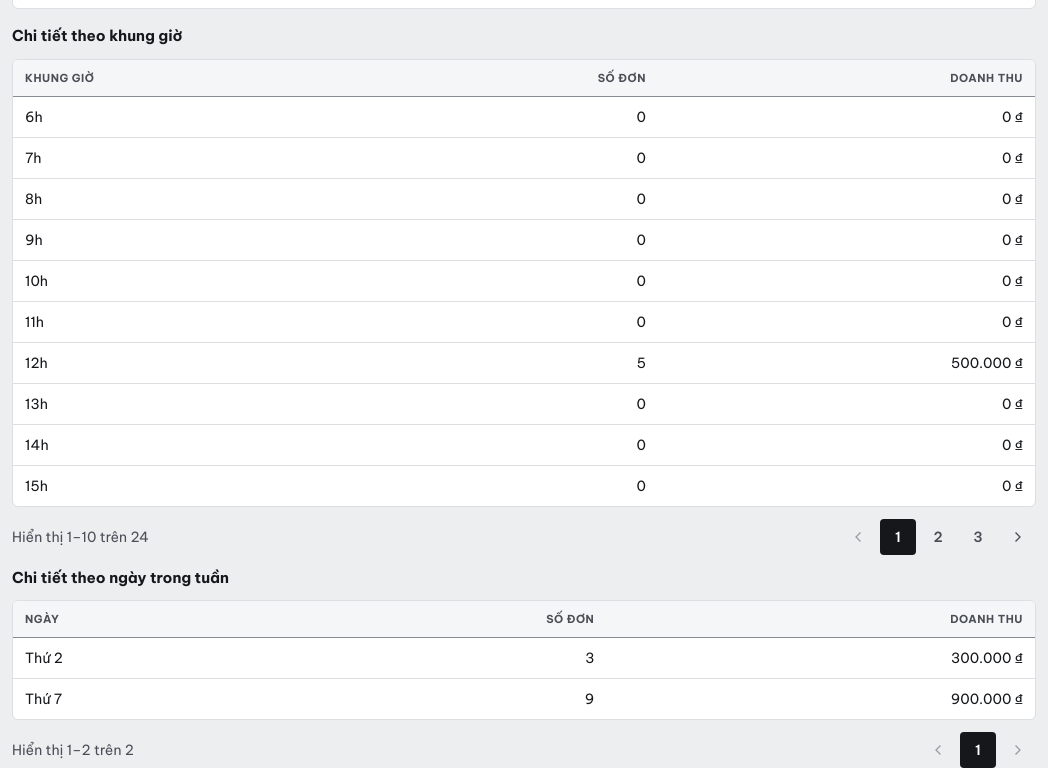
it: HourlyReport › pages the 24-hour detail table at 10 rows per page
The image size is (1048, 768).
(page scrolled)
Expected: the text "500.000 ₫" is shown, [658,342,1035,383]
Expected: the text "800.000 ₫" is not shown
What coordinates should you click on to do the following:
click the button named "Trang 2"
I would click on:
 (938, 537)
Its box is [920,519,956,555].
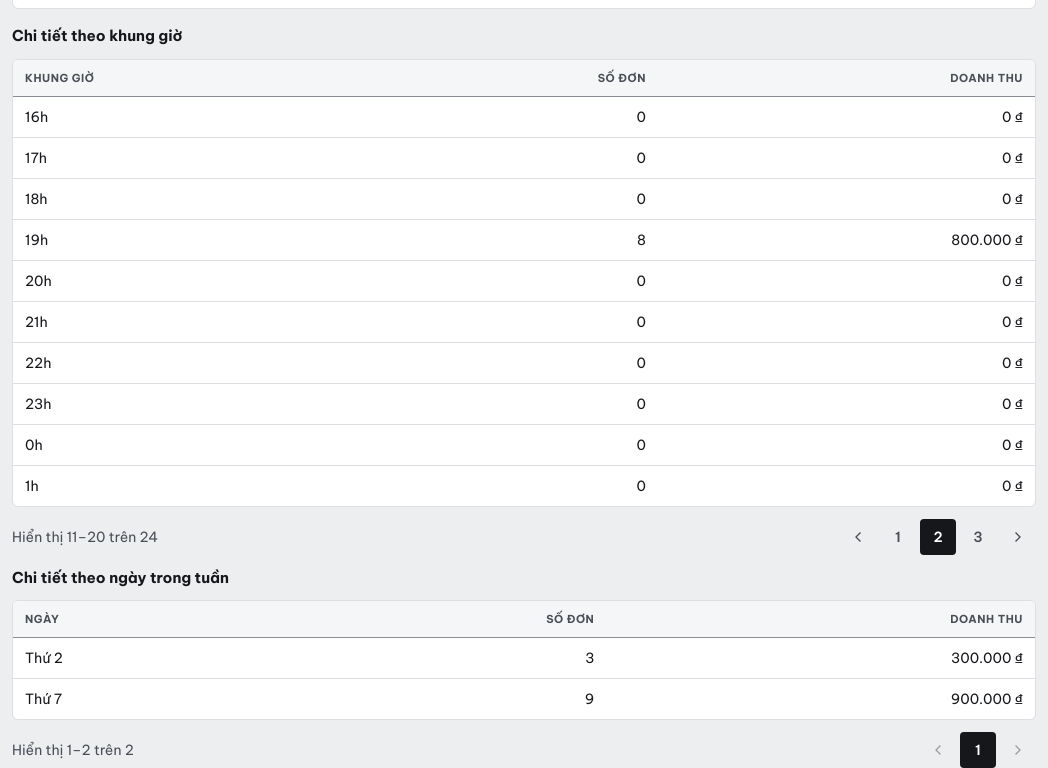
Expected: the text "800.000 ₫" is shown, [658,219,1035,260]
Expected: the text "500.000 ₫" is gone
